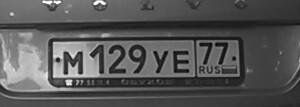license-plateSW: (50, 39, 242, 80)
